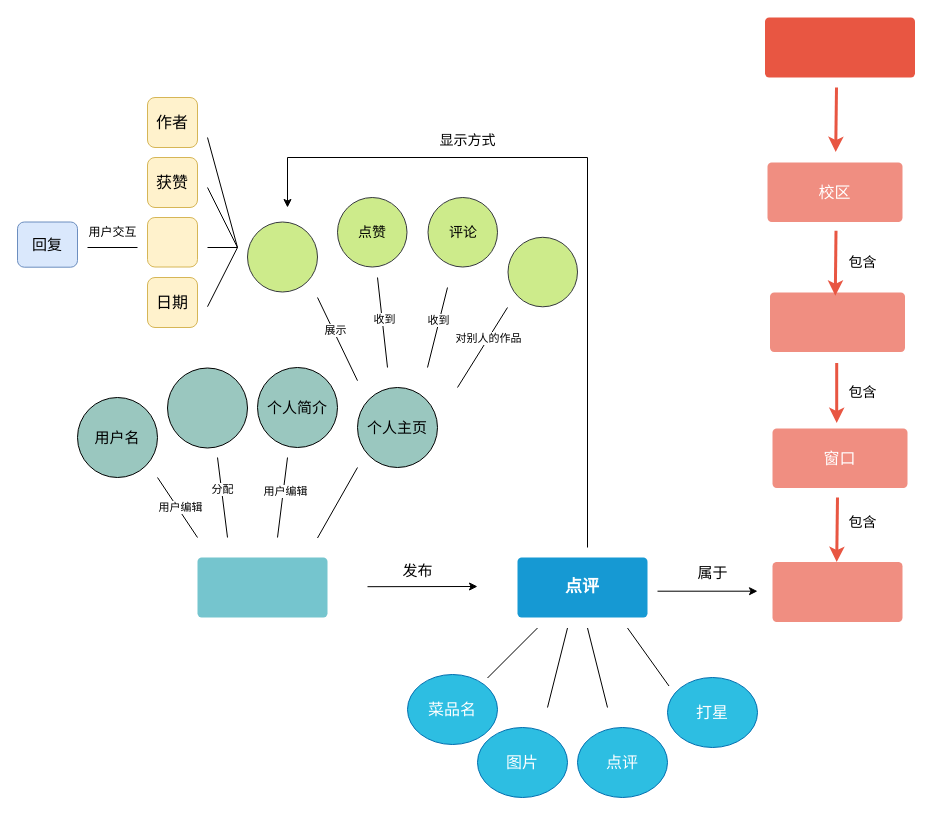
Image size: 932x815. Some labels were removed from this diagram. Here are the shapes that lost their labels. From the top down, the centre of each, then its label:
At point (839, 47): "校内美食".
At point (172, 241): "评论区".
At point (282, 256): "我的作品".
At point (542, 271): "收藏".
At point (837, 322): "食堂".
At point (207, 407): "用户id".
At point (262, 587): "用户".
At point (837, 592): "菜品".
